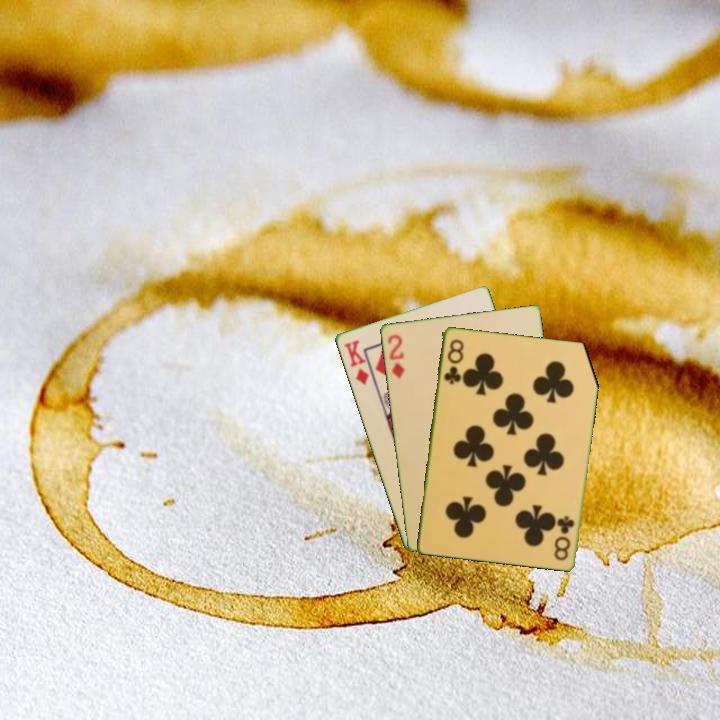2d: (384, 330, 408, 381)
8c: (440, 335, 466, 387), (551, 512, 577, 563)
Kd: (340, 336, 371, 388)
